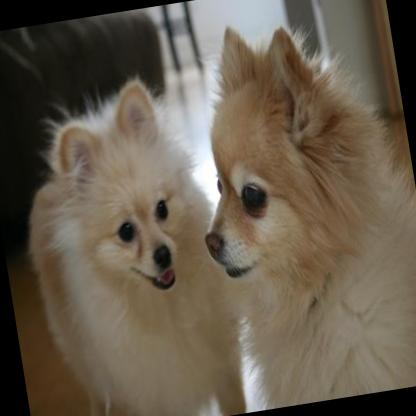Pomeranian: (169, 0, 416, 411), (0, 62, 250, 416)
